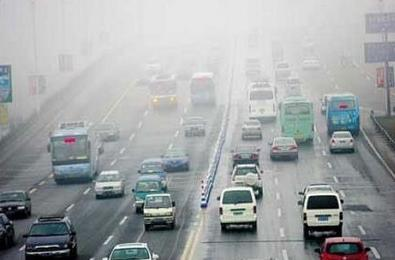bus: (47, 120, 99, 183), (278, 96, 315, 144), (324, 95, 360, 137), (246, 82, 277, 122), (148, 73, 179, 110), (189, 72, 216, 107)
car: (296, 192, 345, 249), (22, 214, 78, 260), (217, 187, 259, 234), (298, 184, 340, 221), (131, 176, 168, 214), (141, 193, 177, 231), (313, 237, 371, 260), (230, 164, 264, 197), (102, 243, 160, 260), (92, 170, 126, 199), (1, 190, 32, 219), (137, 159, 168, 187), (230, 144, 261, 170), (268, 136, 298, 161), (160, 148, 191, 171), (329, 131, 355, 153), (1, 213, 15, 253), (182, 116, 207, 137), (95, 122, 121, 142), (241, 120, 262, 140), (284, 78, 304, 98), (145, 57, 163, 76), (274, 61, 291, 80), (244, 57, 261, 75), (302, 55, 322, 70), (90, 135, 105, 154), (320, 97, 335, 115), (271, 41, 284, 59)
